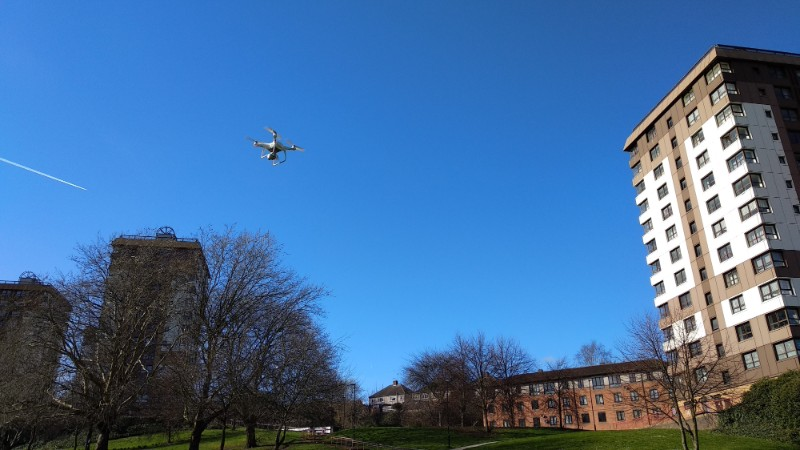drone: (245, 124, 307, 168)
